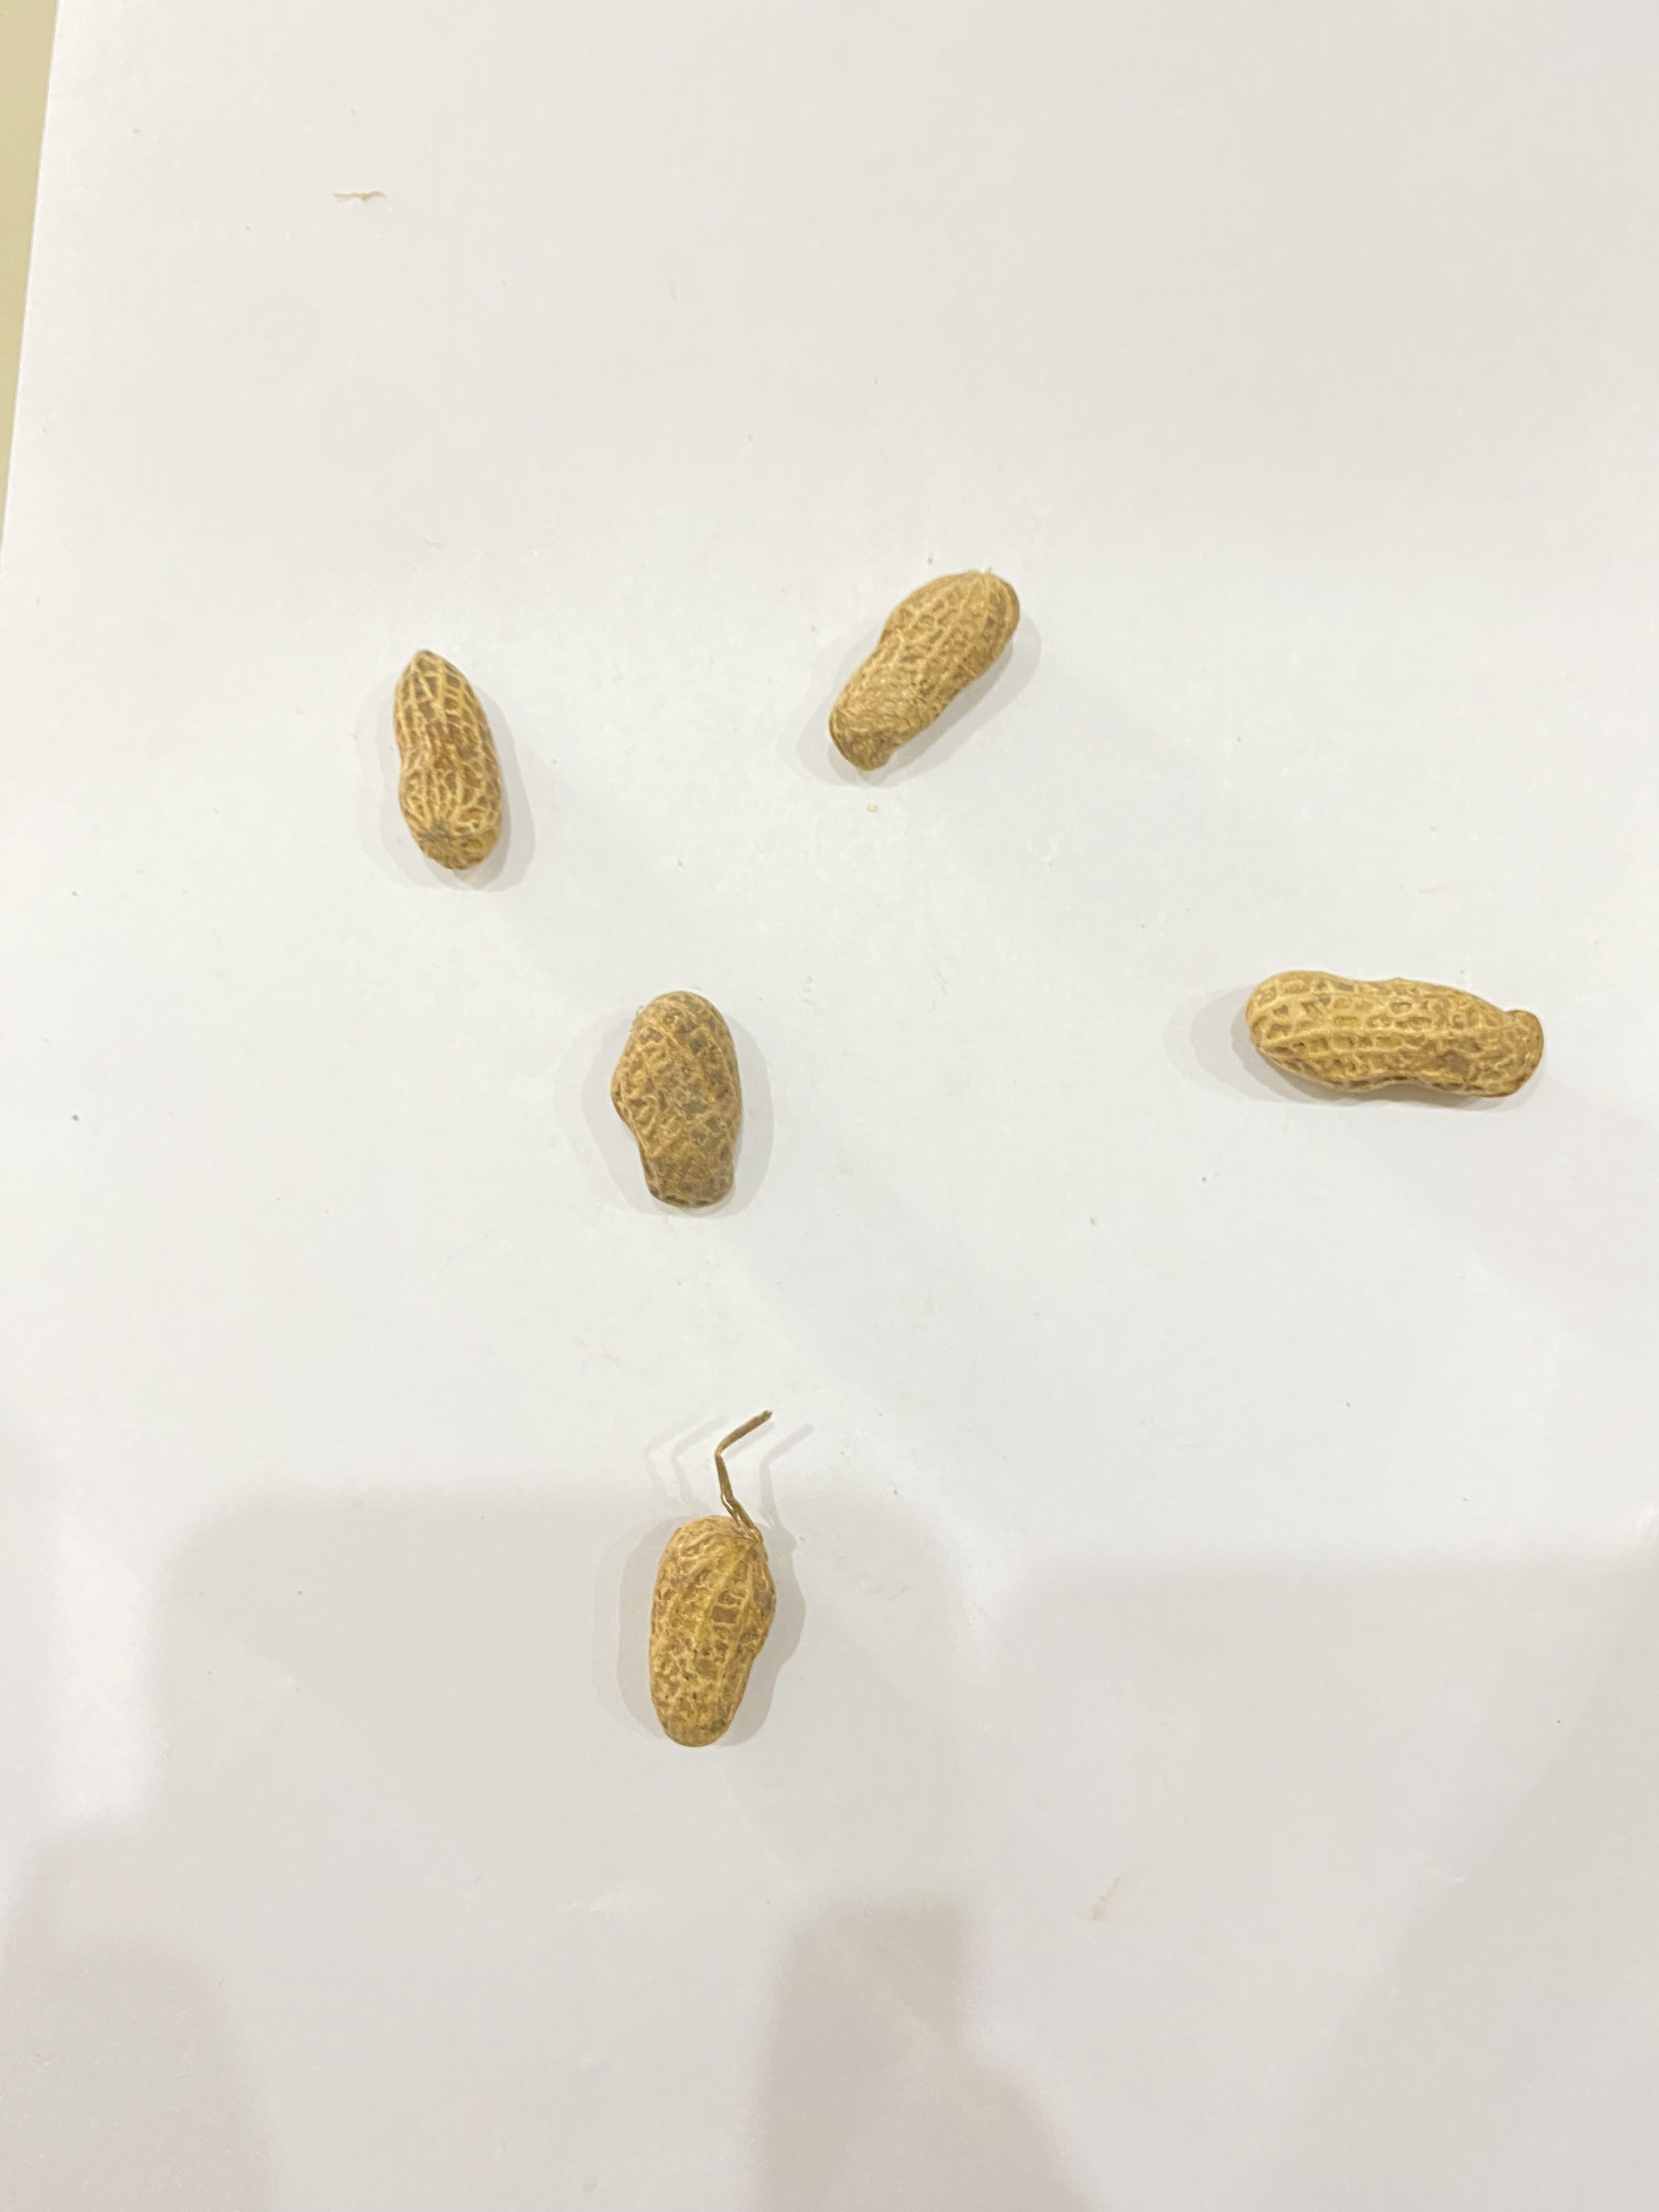kacang1: (594, 1503, 796, 1754), (592, 984, 795, 1235)
kacang2: (1234, 942, 1579, 1118), (828, 542, 1051, 773), (356, 651, 544, 871)
